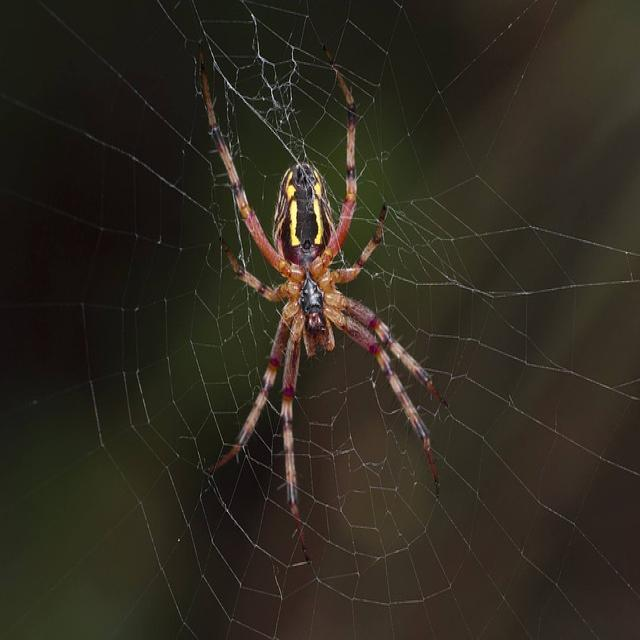spyder: (201, 54, 442, 548)
